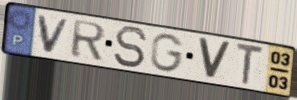G: (150, 32, 187, 74)
R: (69, 18, 109, 62)
S: (113, 24, 150, 70)
T: (235, 42, 265, 87)
V: (196, 36, 233, 82), (36, 13, 73, 55)
